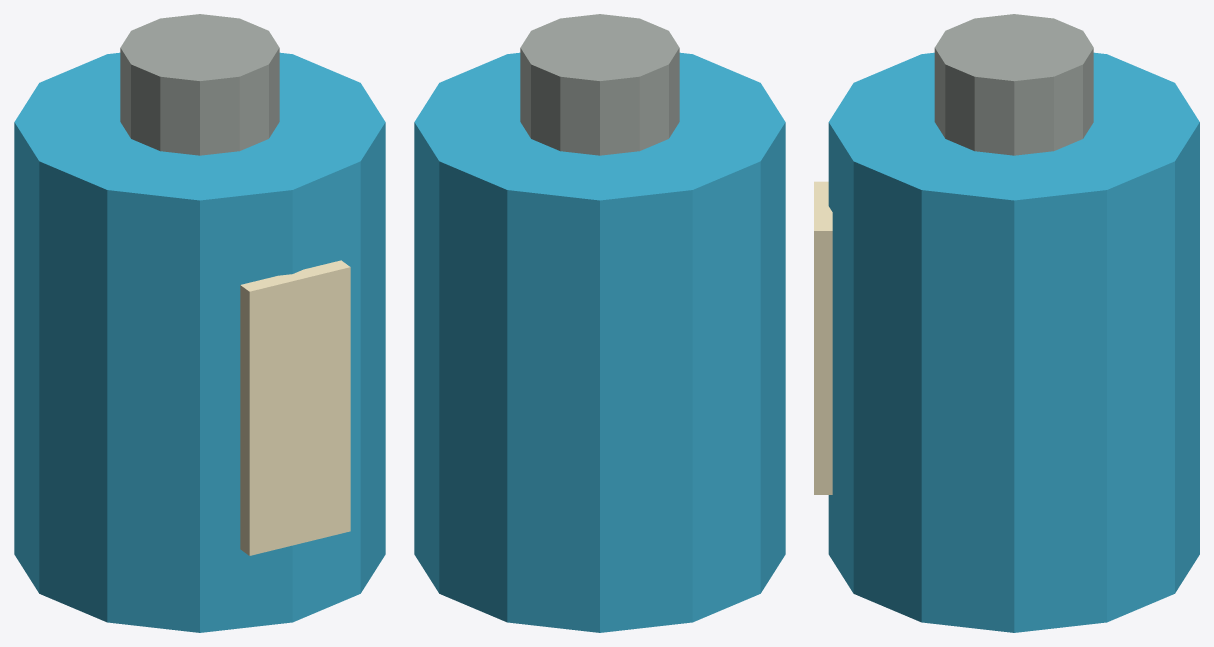
File: nitro.glb
3 views of the same model, side by side, from view 1: azimuth 30°, elevation 25°; view 2: azimuth 150°, elevation 25°; view 3: azimuth 270°, elevation 25° (orthographic).
Parts seen in each view (by area): view 1: Blue nitro can.005, Nitro stripe.005, Nitro cap.005; view 2: Blue nitro can.005, Nitro cap.005; view 3: Blue nitro can.005, Nitro cap.005, Nitro stripe.005.
Boxes of the visible parts, x1,y1,x2,y2 form: Blue nitro can.005: [14, 52, 385, 632]; Nitro stripe.005: [240, 260, 350, 555]; Nitro cap.005: [120, 14, 279, 155]; Blue nitro can.005: [414, 52, 785, 632]; Nitro cap.005: [520, 14, 679, 155]; Blue nitro can.005: [828, 52, 1199, 632]; Nitro cap.005: [934, 14, 1093, 155]; Nitro stripe.005: [814, 181, 832, 494].
Bounding box in the file's own units: 0.7 × 1.05 × 0.7275.
